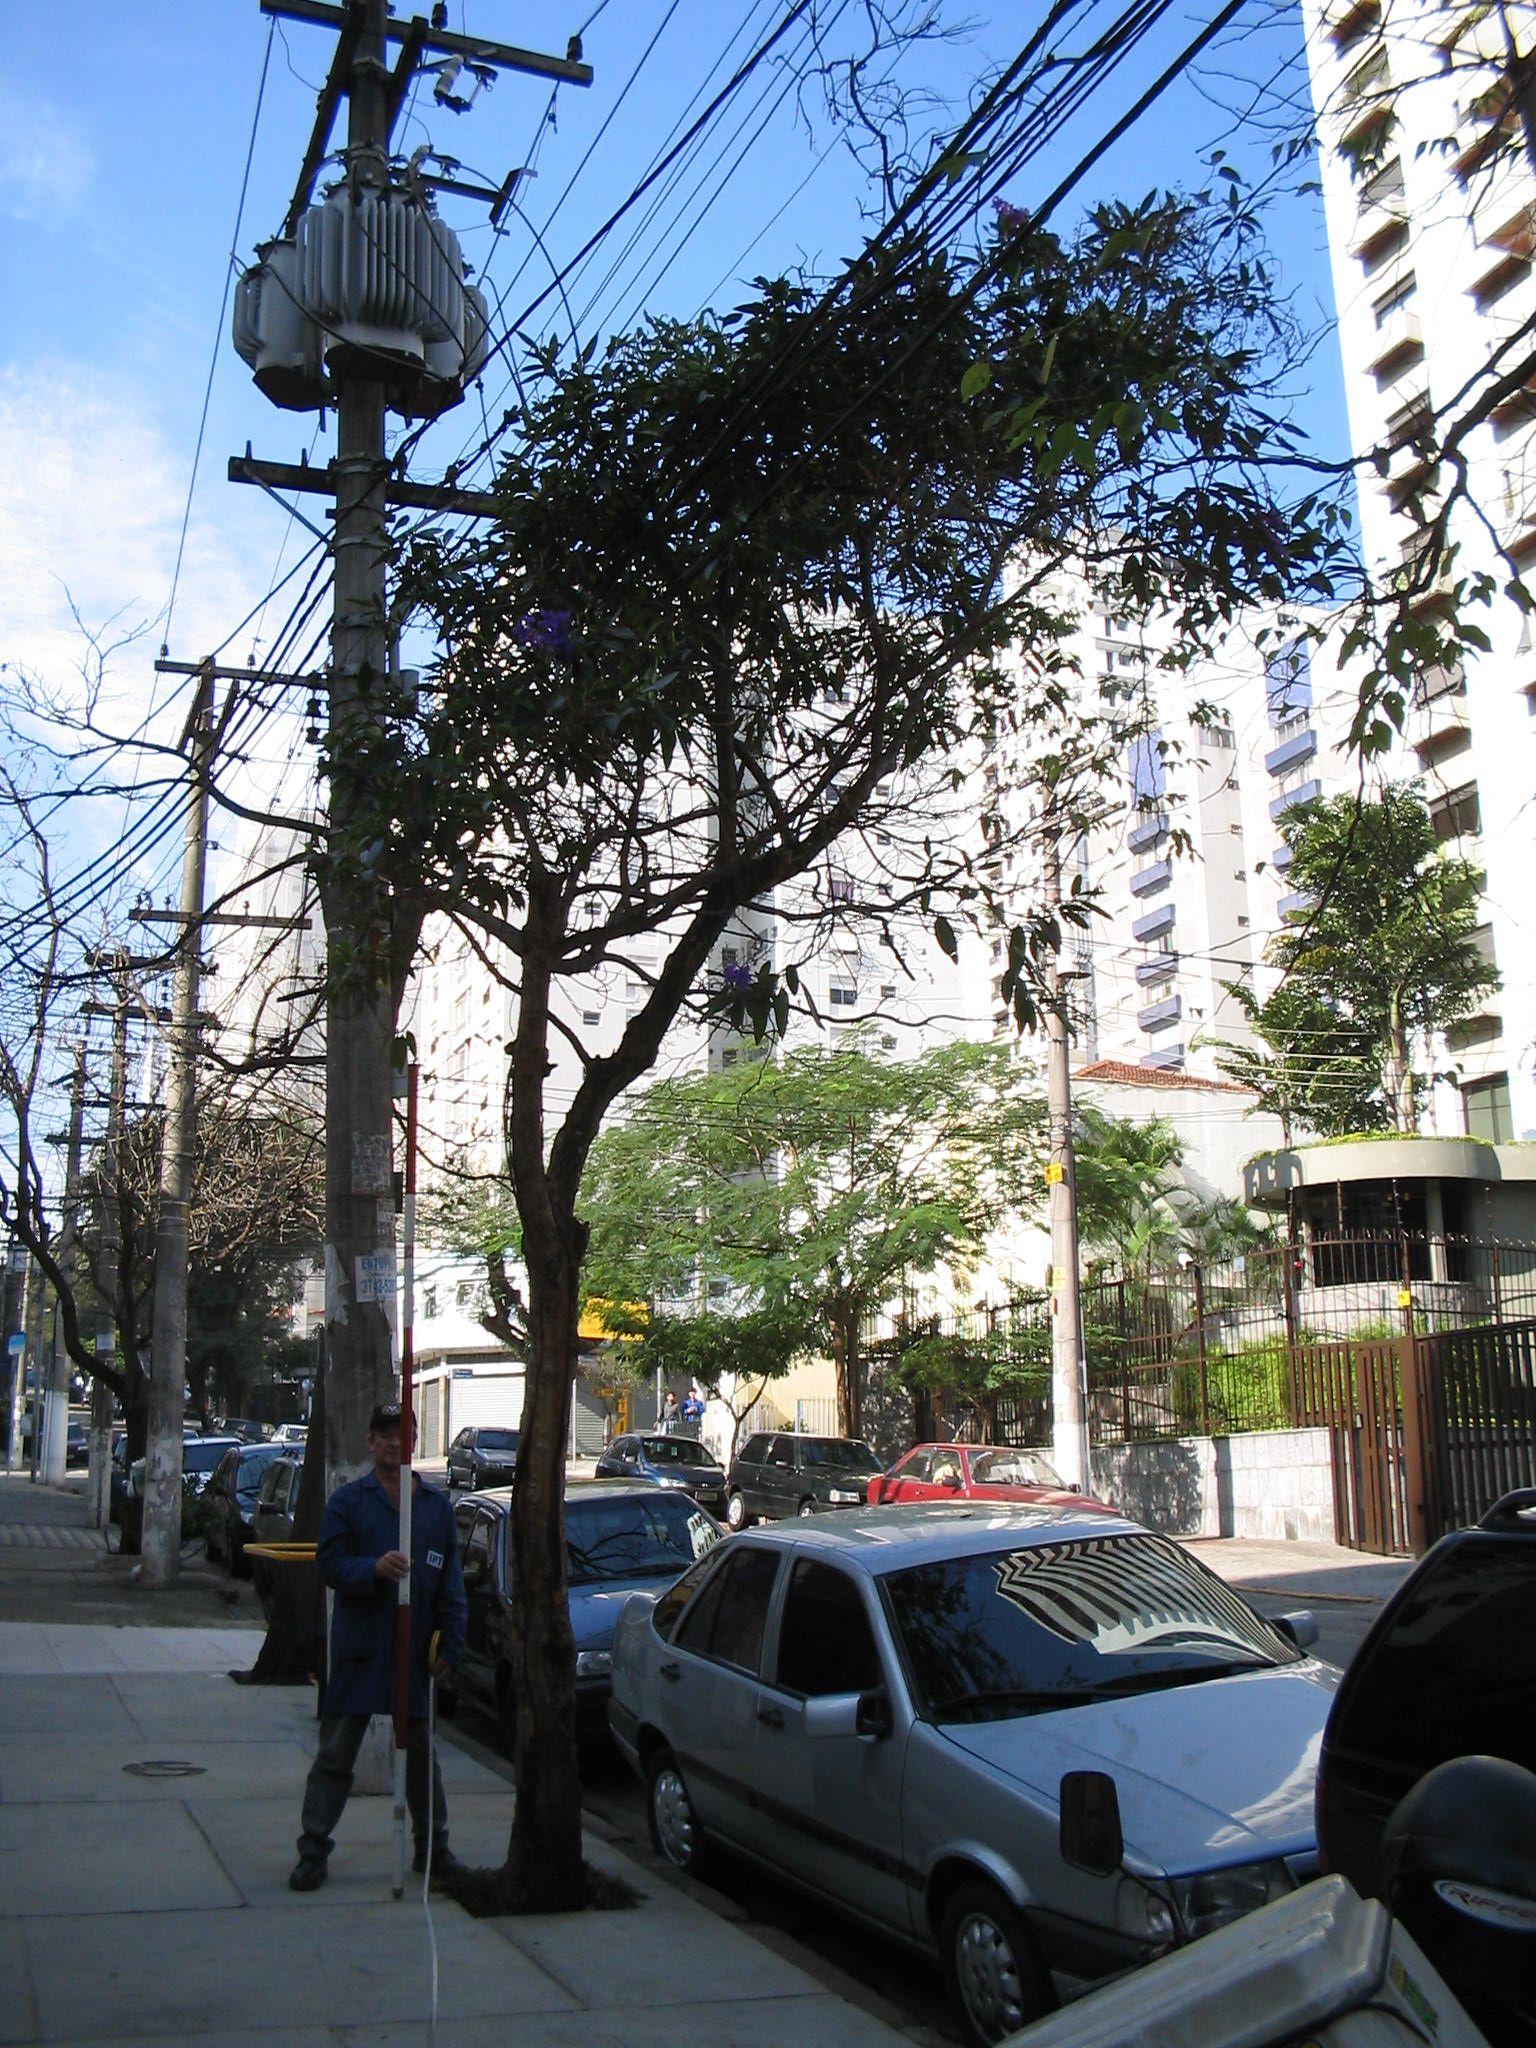crown: (302, 161, 1359, 1050)
stem: (473, 1242, 665, 1900)
stick: (378, 1061, 453, 1904)
tree: (295, 155, 1367, 1900)
